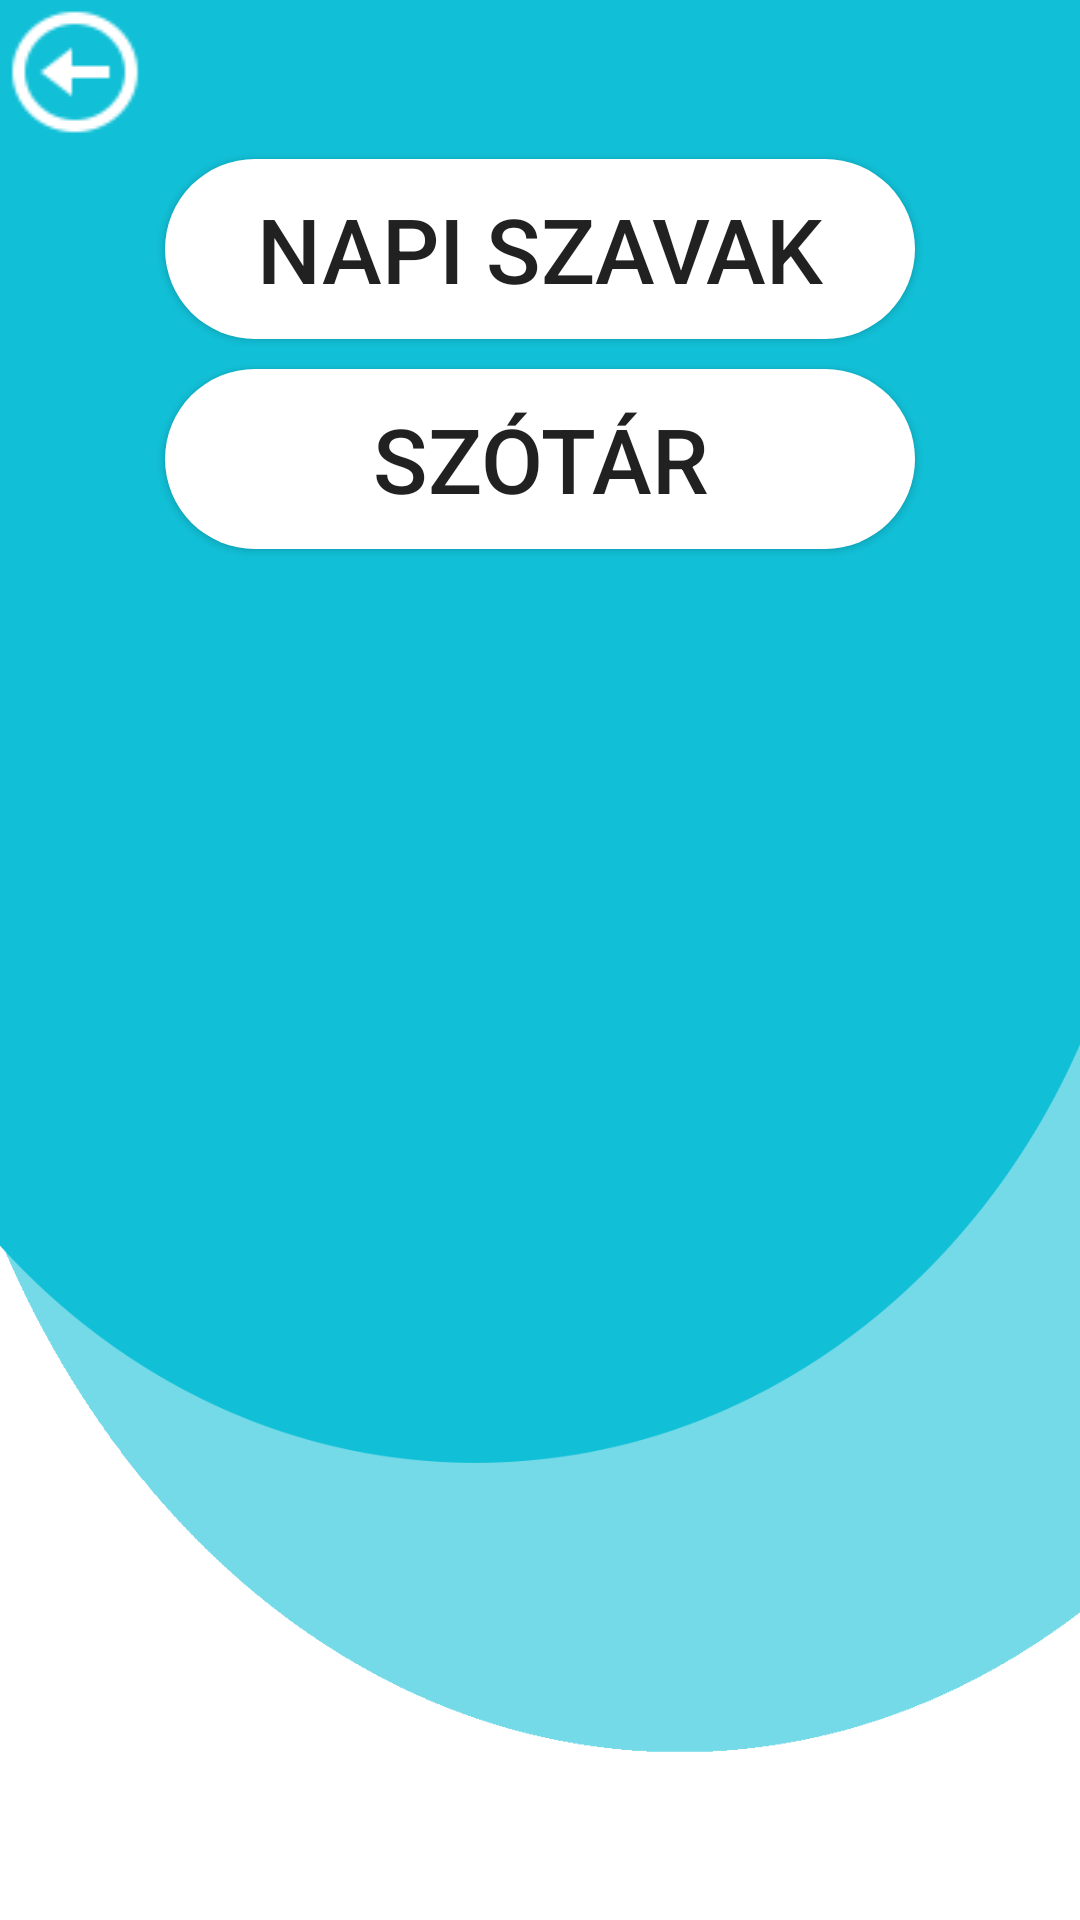

Point at icon controls on the screen. Image size 1080*1920, points as (x,y).
back: (75,72)
